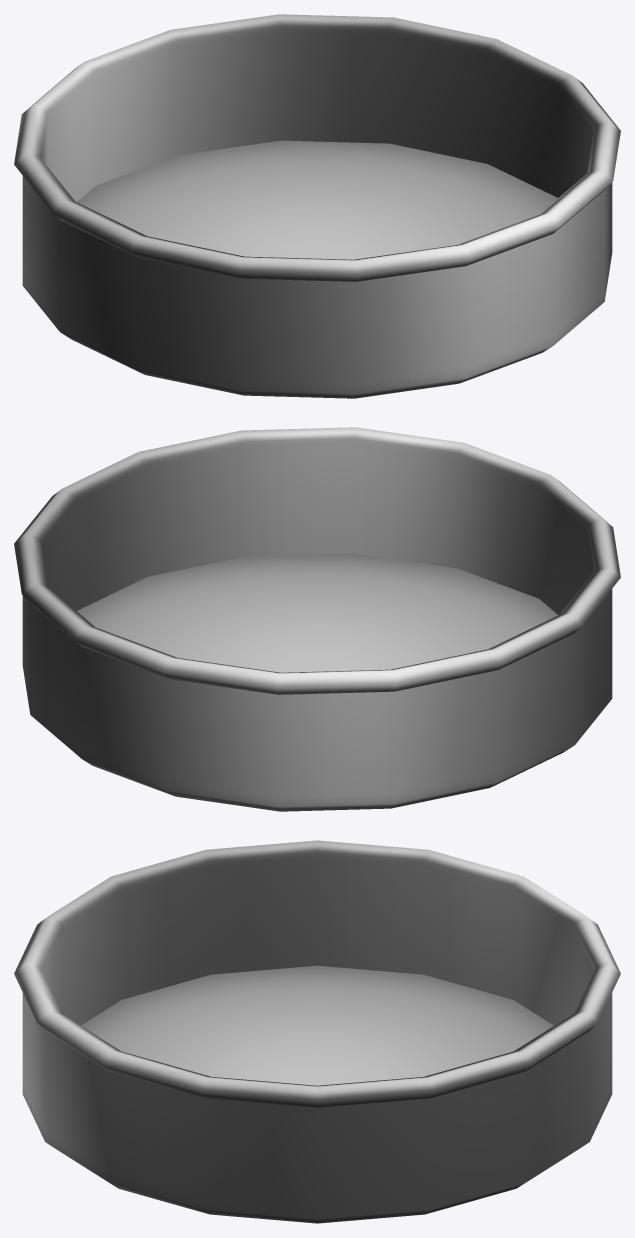
The model's file is CakePan_01.fbx.
3 views of the same model, one above another, from view 1: azimuth 30°, elevation 25°; view 2: azimuth 150°, elevation 25°; view 3: azimuth 270°, elevation 25° (orthographic).
Parts seen in each view (by area): view 1: CakePan_01; view 2: CakePan_01; view 3: CakePan_01.
Boxes of the visible parts, <box> form: CakePan_01: <box>14,14,620,398</box>; CakePan_01: <box>14,427,620,811</box>; CakePan_01: <box>14,840,620,1223</box>.
Size of the model in its own units: 103 by 26.4 by 103.
